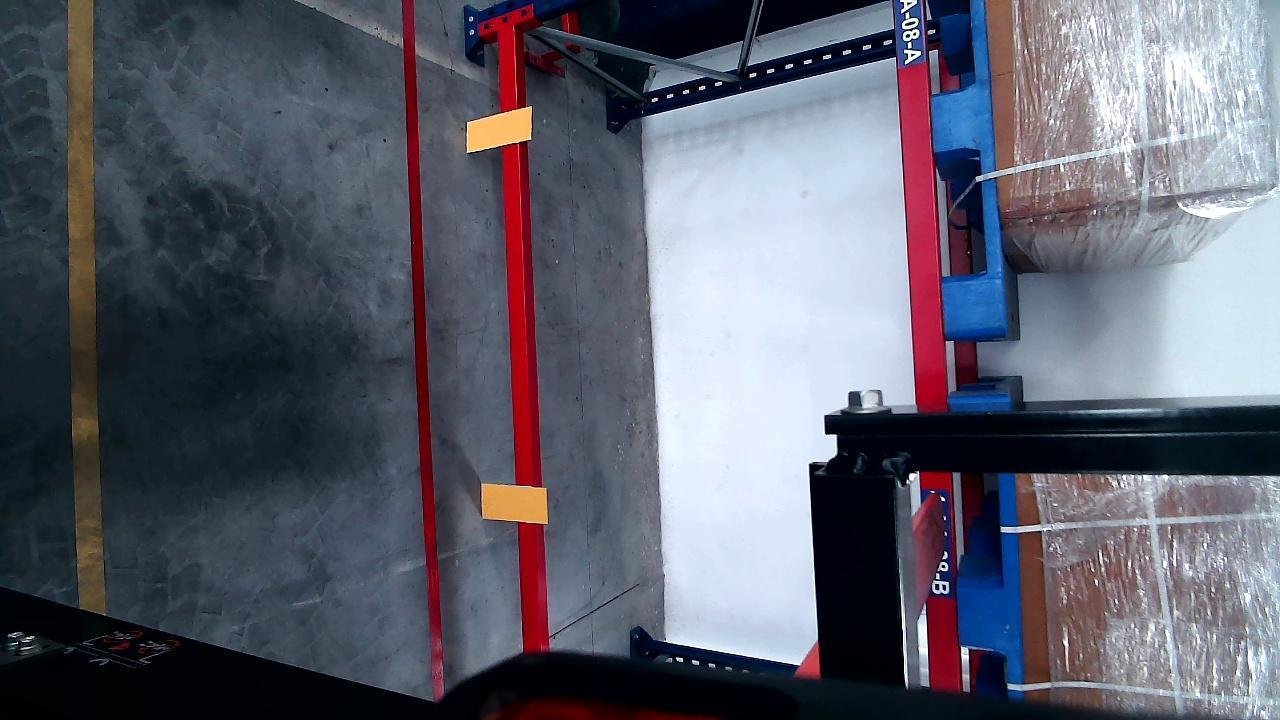h_rack: (497, 17, 542, 660), (893, 0, 945, 397)
orange_strip: (464, 107, 532, 153), (480, 482, 548, 523)
red_line: (403, 1, 441, 697)
small_pallet: (930, 0, 1007, 339), (947, 405, 1025, 687)
yellow_line: (66, 0, 102, 616)
